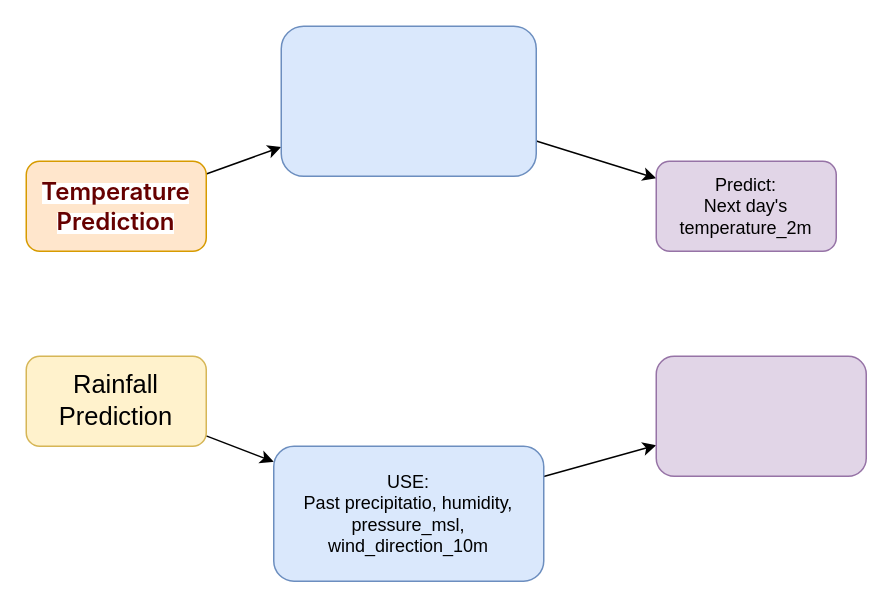
This 893x608 diagram has some shape labels left out. Each missing label, with the centre of its shape:
Predict : Probability of rain ( Weather_code for classification): the point at 760,415
USE : PAST temperature_2m, relative_humidity_2m, cloud_cover, wind_speed_10m: the point at 408,100
